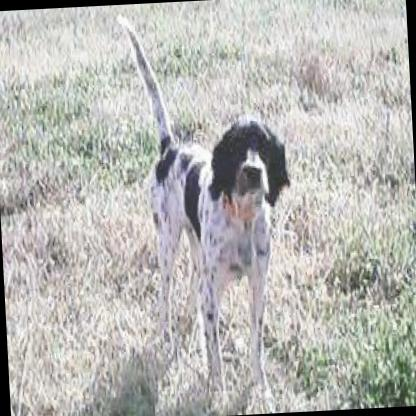English_setter: (112, 0, 299, 413)
